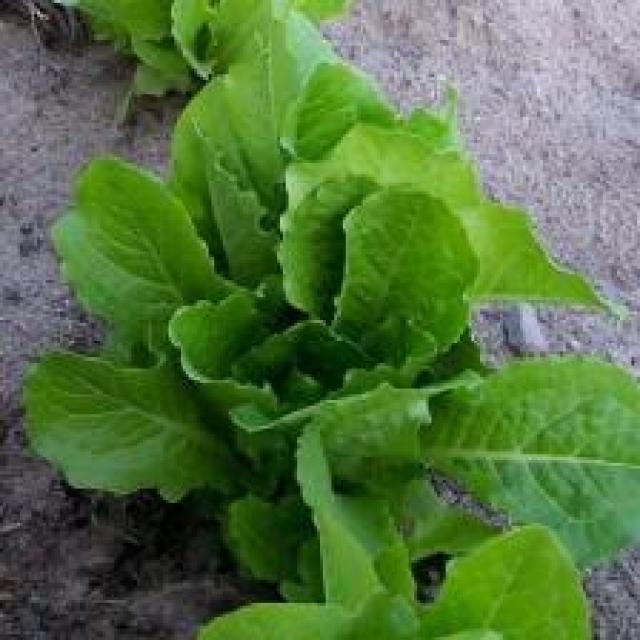Lettuce: (31, 45, 640, 582)
